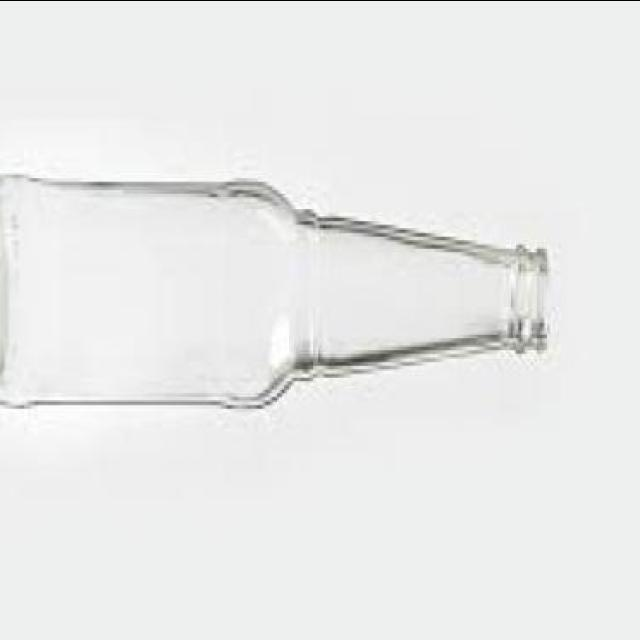kaca: (0, 178, 553, 417)
